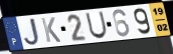2: (67, 14, 88, 42)
6: (112, 8, 131, 38)
9: (133, 7, 152, 35)
J: (23, 17, 41, 47)
K: (40, 16, 63, 44)
U: (85, 11, 109, 40)
